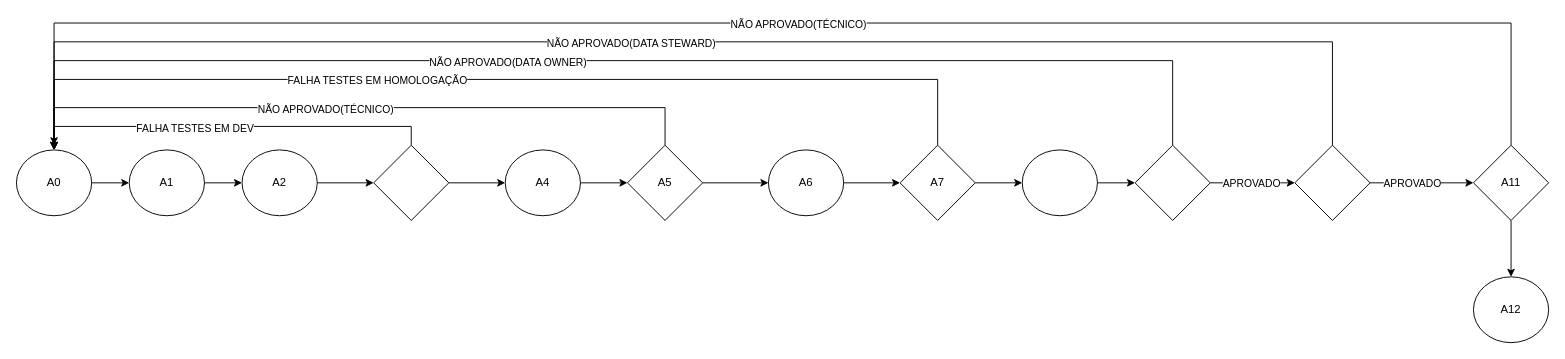
The diagram is 1565 pixels wide and 359 high, and some of its shapes have lost their labels. The shapes that lost their labels are listed below. From the top down, each one's centre as x and y in pixels, then its label:
the point at 411,182: A3
the point at 1059,182: A8
the point at 1172,182: A9
the point at 1332,182: A10
